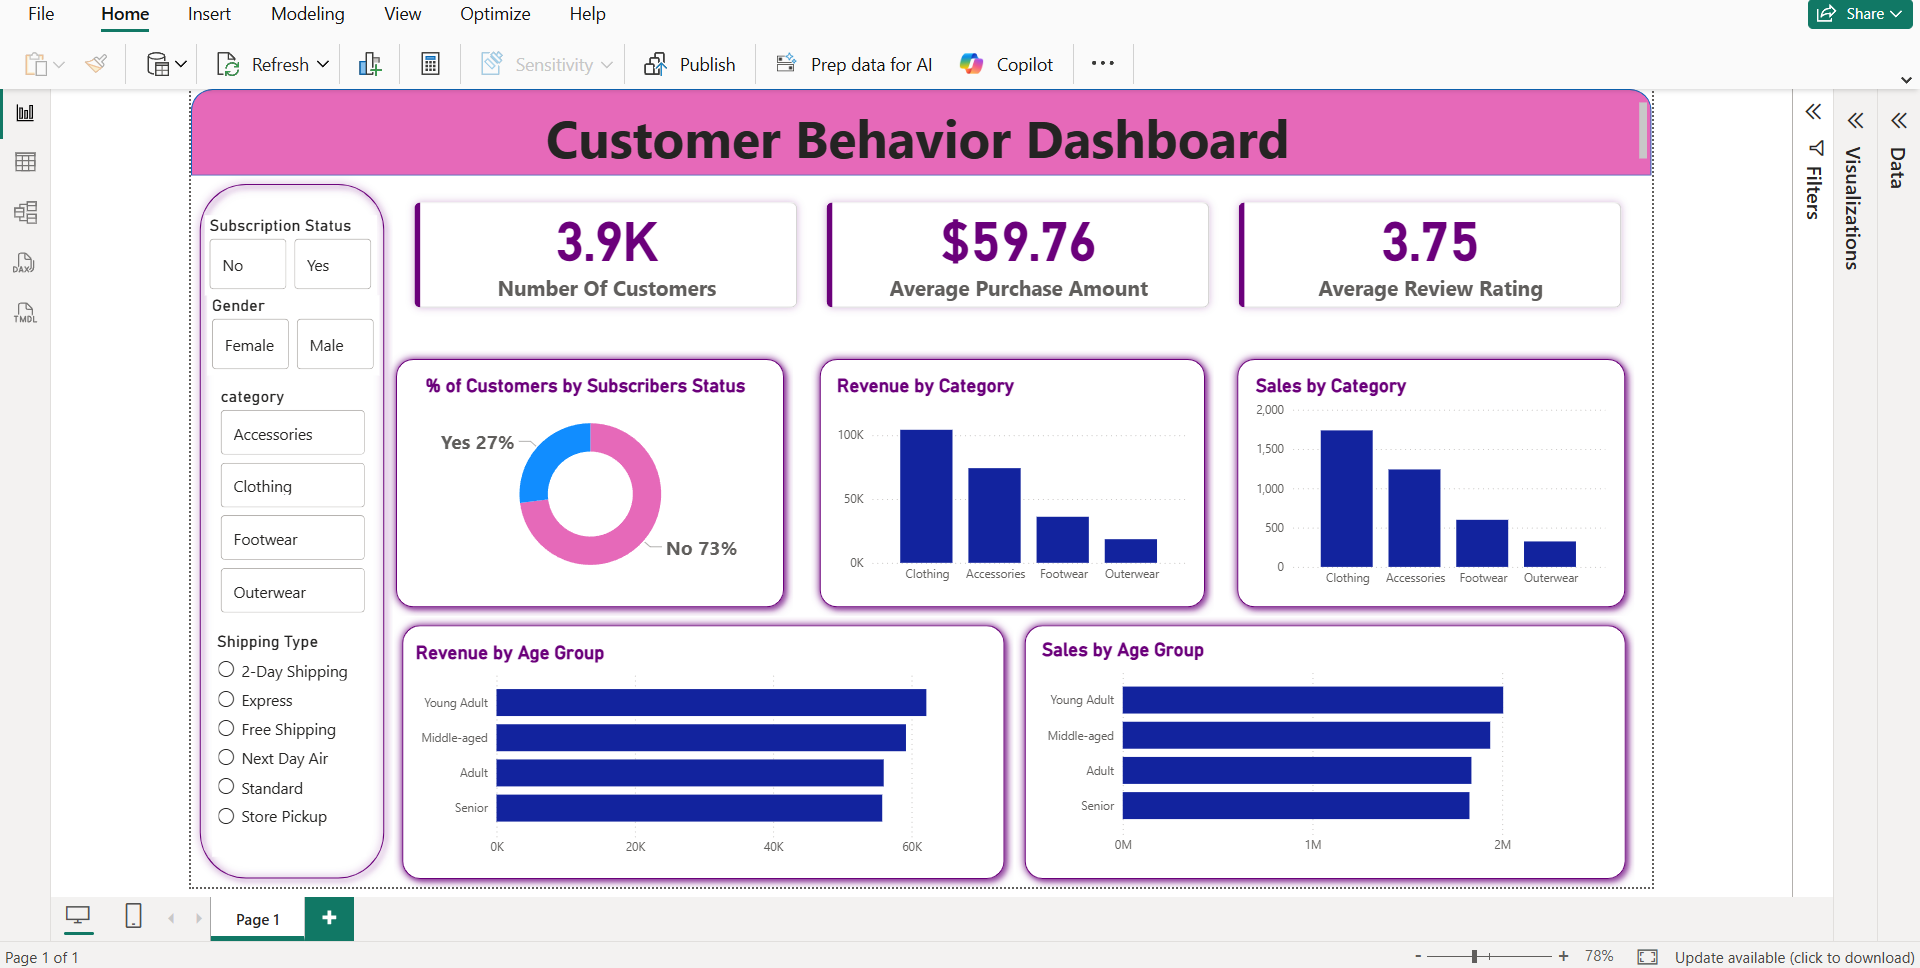

What the dashboard file says about the page in this screenshot:
{"tool":"powerbi","page":{"name":"Page 1","canvas":[1500,820],"ordinal":0},"visuals":[{"type":"shape","box":[207.5,541.7,636.5,278.5],"z":0},{"type":"cardVisual","fields":{"Data":["customer_shopping_behavior customer.Number of customers","customer_shopping_behavior customer.Average purchase amount","customer_shopping_behavior customer.average review rating"]},"box":[201.9,89.1,1298,164.3],"z":1000},{"type":"shape","box":[0,0,1499.9,89.1],"z":2000},{"type":"textbox","box":[0,8.4,1499.9,73.8],"z":3000},{"type":"shape","box":[201.9,268.8,416.4,273],"z":4000},{"type":"donutChart","title":"% of Customers by Subscribers Status","fields":{"Category":["customer_shopping_behavior customer.subscription_status"],"Y":["CountNonNull(customer_shopping_behavior customer.subscription_status)"]},"box":[236.8,293.9,348.2,222.8],"z":5000},{"type":"shape","box":[1065.4,268.8,416.4,273],"z":6000},{"type":"shape","box":[636.5,268.8,413.6,273],"z":7000},{"type":"clusteredColumnChart","title":"Revenue by Category","fields":{"Y":["Sum(customer_shopping_behavior customer.purchase_amount)"],"Category":["customer_shopping_behavior customer.category"]},"box":[658.7,293.9,369.1,222.8],"z":8000},{"type":"clusteredColumnChart","title":"Sales by Category","fields":{"Y":["CountNonNull(customer_shopping_behavior customer.customer_id)"],"Category":["customer_shopping_behavior customer.category"]},"box":[1089.1,293.9,369.1,227],"z":9000},{"type":"shape","box":[0,89.1,207.5,731.2],"z":10000},{"type":"advancedSlicerVisual","fields":{"Values":["customer_shopping_behavior customer.subscription_status"]},"box":[13.9,129.5,176.9,82.2],"z":11000},{"type":"advancedSlicerVisual","fields":{"Values":["customer_shopping_behavior customer.gender"]},"box":[16.7,211.7,176.9,82.2],"z":12000},{"type":"advancedSlicerVisual","fields":{"Values":["customer_shopping_behavior customer.category"]},"box":[25.1,305,158.8,239.5],"z":13000},{"type":"listSlicer","fields":{"Values":["customer_shopping_behavior customer.shipping_type"]},"box":[22.3,557.1,158.8,231.2],"z":14000},{"type":"clusteredBarChart","title":"Revenue by Age Group","fields":{"Y":["Sum(customer_shopping_behavior customer.purchase_amount)"],"Category":["customer_shopping_behavior customer.age_group"]},"box":[225.6,566.8,600.2,229.8],"z":15000},{"type":"shape","box":[846.7,541.7,635.1,278.5],"z":16000},{"type":"clusteredBarChart","title":"Sales by Age Group","fields":{"Category":["customer_shopping_behavior customer.age_group"],"Y":["Sum(customer_shopping_behavior customer.customer_id)"]},"box":[869,565.4,589.1,229.8],"z":17000}]}

Visuals, with their boxes on the page's 1500x820 design canvas (x1, y1, x2, y2). These are canvas units, not pixel positions in the 1920x968 screenshot, which may show the page scaled, cropped or inside an application window:
shape: 208, 542, 844, 820
cardVisual - customer_shopping_behavior customer.Number of customers x customer_shopping_behavior customer.Average purchase amount: 202, 89, 1500, 253
shape: 0, 0, 1500, 89
textbox: 0, 8, 1500, 82
shape: 202, 269, 618, 542
"% of Customers by Subscribers Status" donutChart: 237, 294, 585, 517
shape: 1065, 269, 1482, 542
shape: 636, 269, 1050, 542
"Revenue by Category" clusteredColumnChart: 659, 294, 1028, 517
"Sales by Category" clusteredColumnChart: 1089, 294, 1458, 521
shape: 0, 89, 208, 820
advancedSlicerVisual - customer_shopping_behavior customer.subscription_status: 14, 130, 191, 212
advancedSlicerVisual - customer_shopping_behavior customer.gender: 17, 212, 194, 294
advancedSlicerVisual - customer_shopping_behavior customer.category: 25, 305, 184, 544
listSlicer - customer_shopping_behavior customer.shipping_type: 22, 557, 181, 788
"Revenue by Age Group" clusteredBarChart: 226, 567, 826, 797
shape: 847, 542, 1482, 820
"Sales by Age Group" clusteredBarChart: 869, 565, 1458, 795
